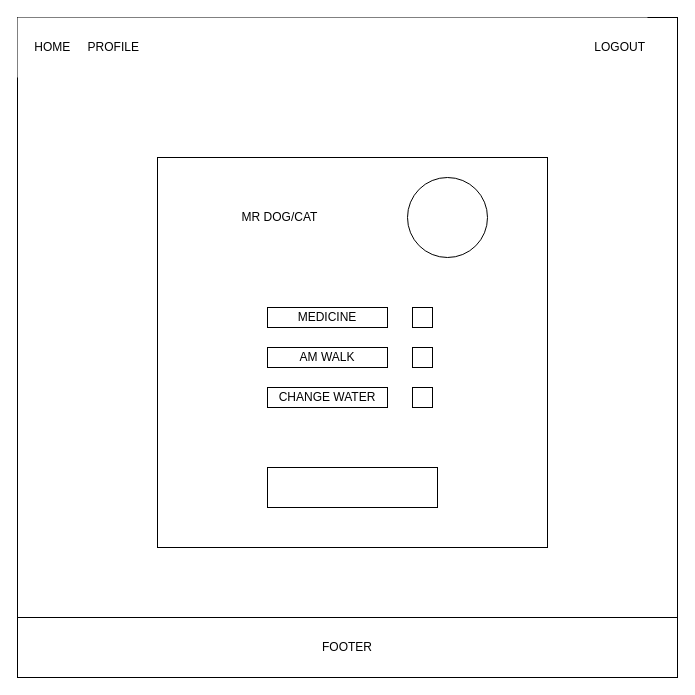
Some shapes in this 695 by 695 pixel diagram are drawn without their labels. Here are the shapes that lost their labels. From the top down, the centre of each, then its label:
At [447,217]: "PHOTO".
At [352,487]: "ADD TASK".
